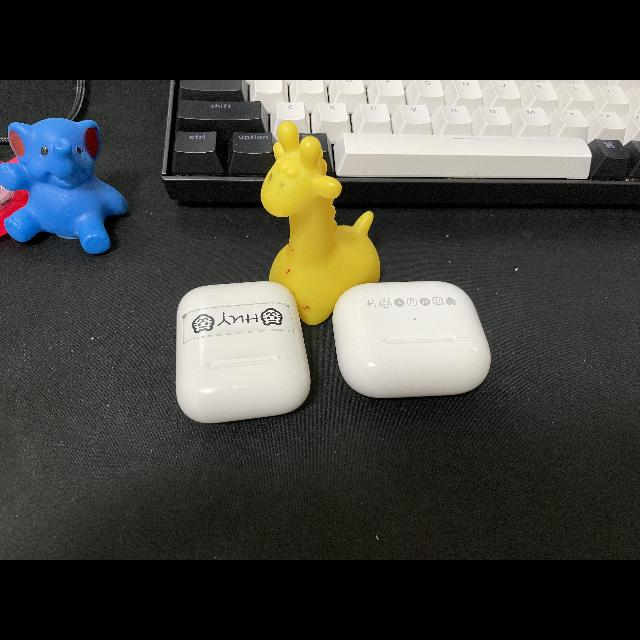airpod2: (168, 272, 316, 426)
airpod3: (331, 275, 507, 405)
